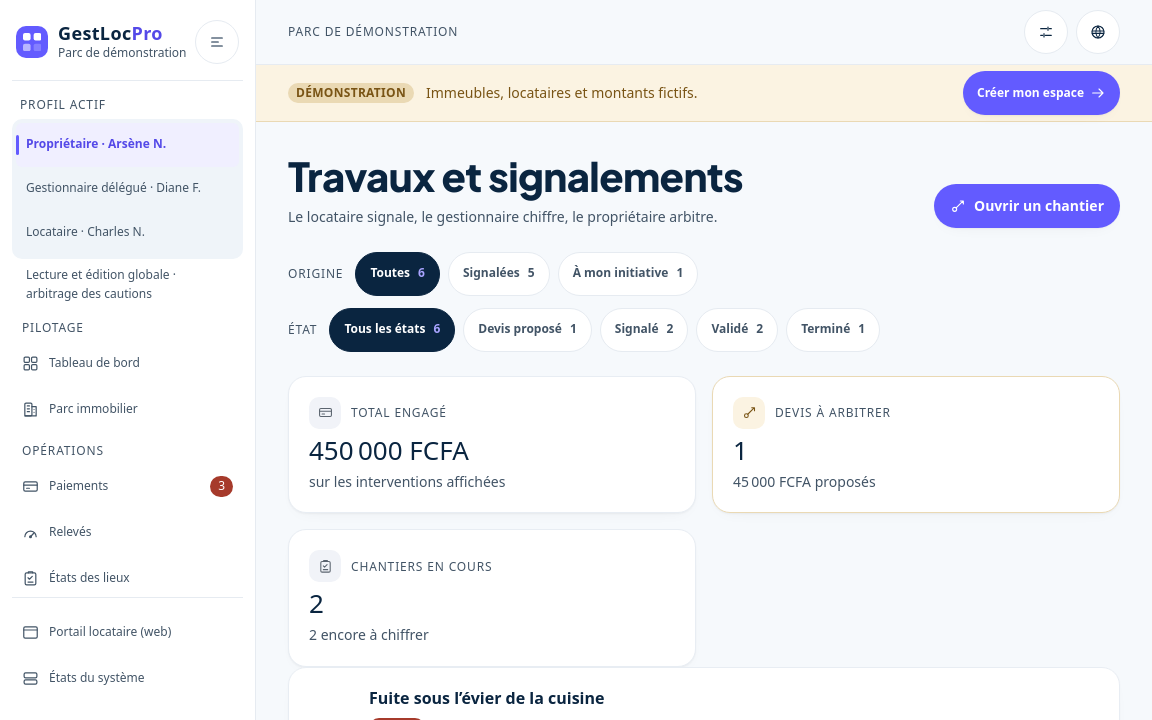
Test: travaux — tri par origine et total engagé › ne montre que l’origine demandée
This screenshot has width=1152, height=720.
What coordinates should you click on to do the following:
click the button "À mon initiative 1"
I would click on:
 (628, 274)
Its box is [558,252,698,296].
(page scrolled)
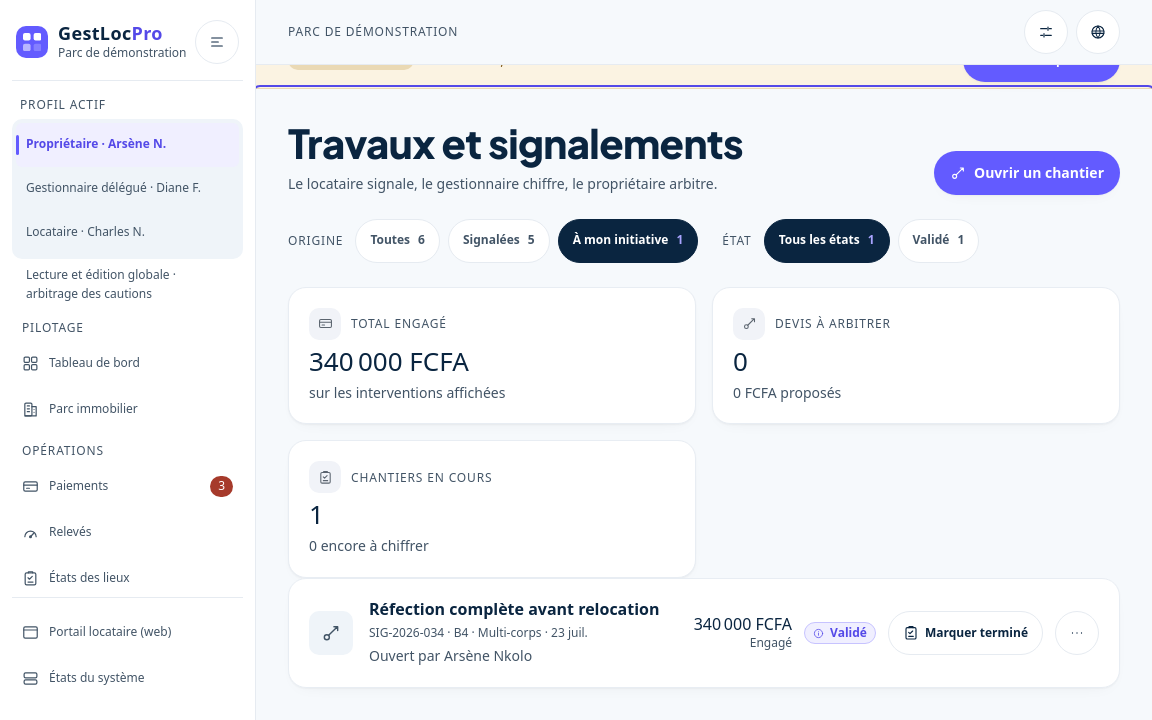
expect the element that starts with "Travaux et signalements" shows "réfection complète": met, box [369,598,660,620]
expect the element that starts with "Travaux et signalements" no longer shows "évier de la cuisine": met
